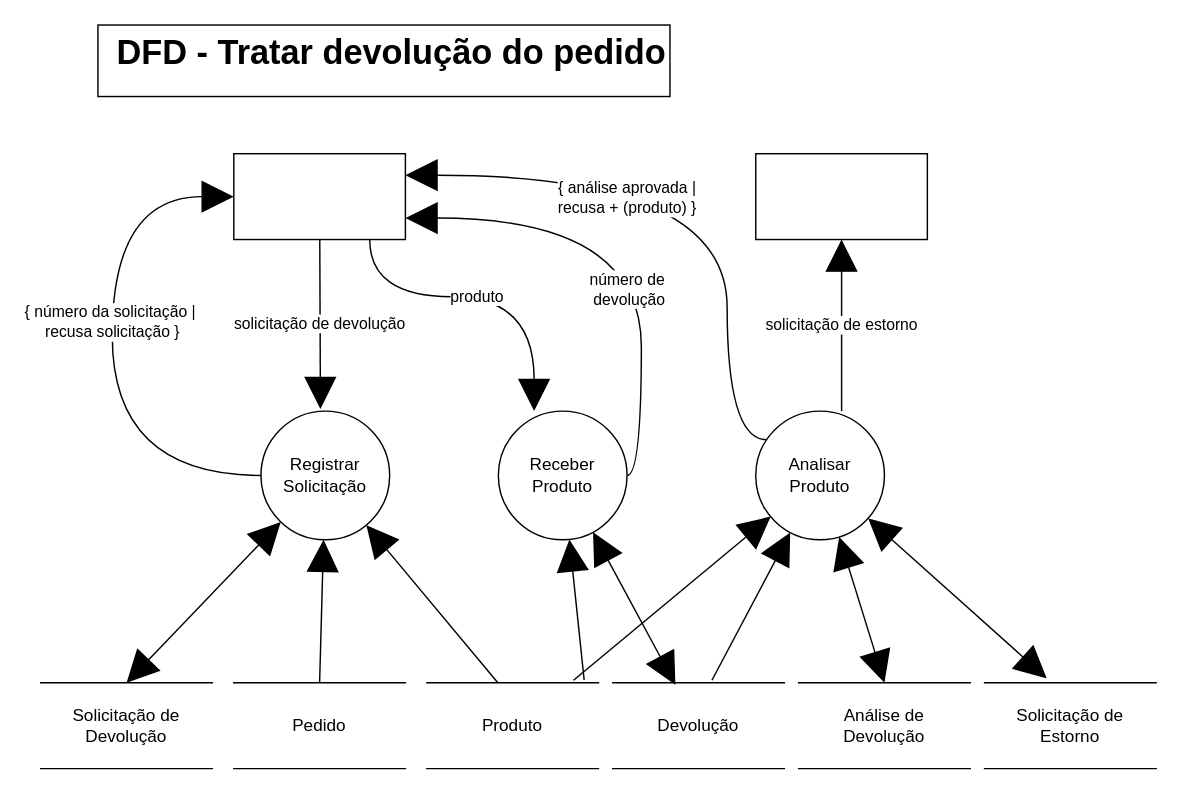
Some shapes in this 1181 by 794 pixel diagram are drawn without their labels. Here are the shapes that lost their labels. From the top down, the box of each, then its label:
(232, 152, 405, 240): Cliente
(754, 152, 927, 240): Caixa
